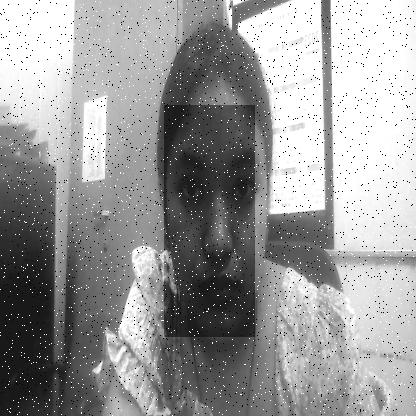Normal: (164, 106, 255, 338)
